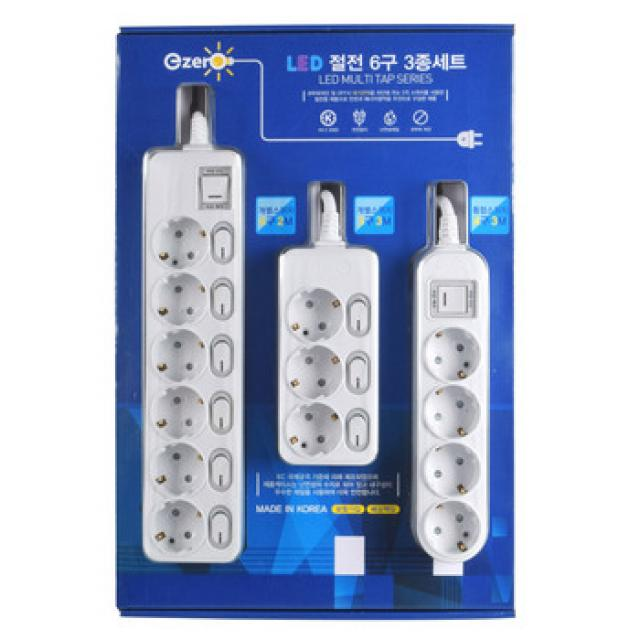typeb: (130, 130, 259, 572), (414, 218, 504, 588), (271, 220, 382, 486)
